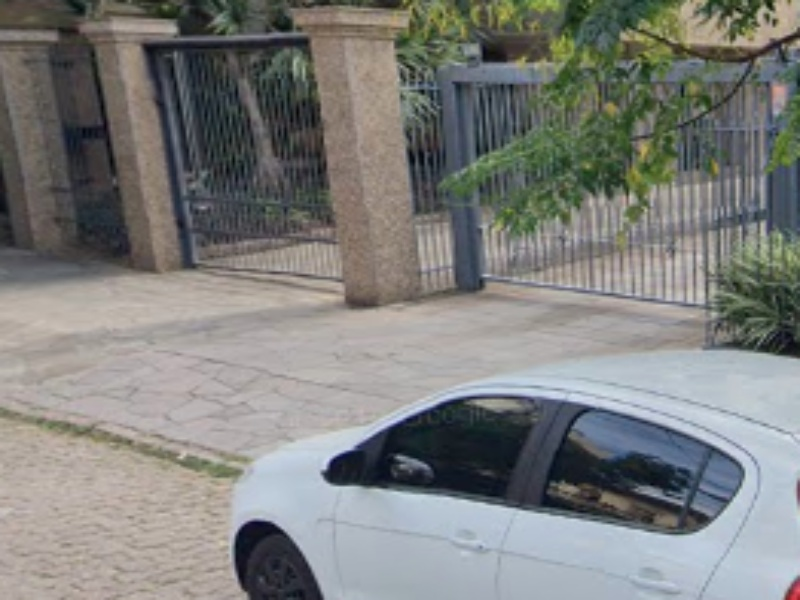v6: (8, 346, 230, 519)
